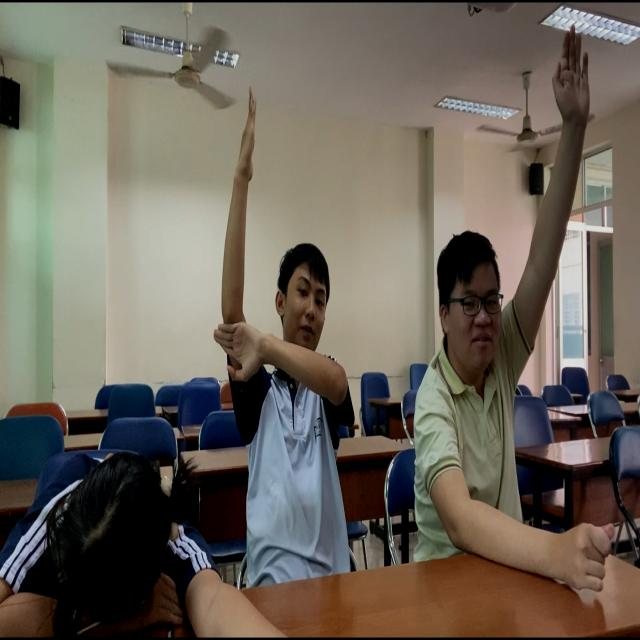raise_hand: (416, 23, 591, 587), (224, 89, 362, 586)
sleep: (1, 438, 220, 640)
